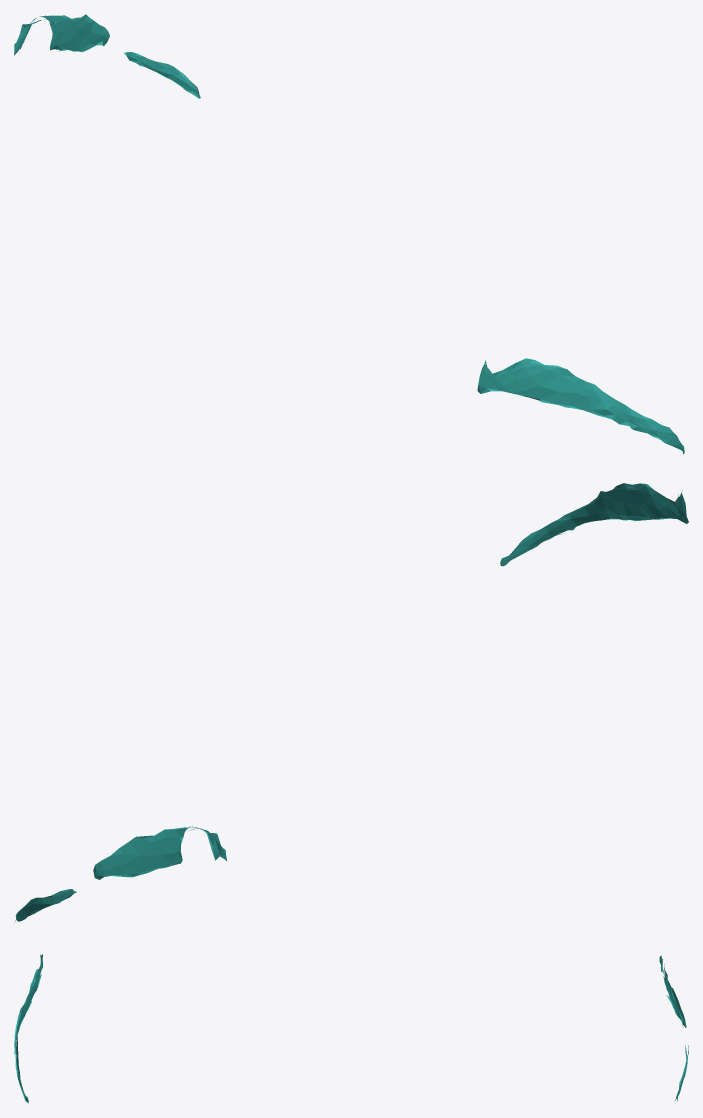
3 views of the same model, one above another, from view 1: azimuth 30°, elevation 25°; view 2: azimuth 150°, elevation 25°; view 3: azimuth 270°, elevation 25° (orthographic). The views are drawn at different scales.
Visible parts, largest first — view 1: 1045.obj; view 2: 1045.obj; view 3: 1045.obj.
Boxes of the visible parts, box(x1,y1,x2,y2) form: 1045.obj: box(14, 14, 684, 453); 1045.obj: box(14, 483, 688, 922); 1045.obj: box(14, 954, 688, 1103).
Bounding box in the file's own units: 2000 × 1264 × 8724.
